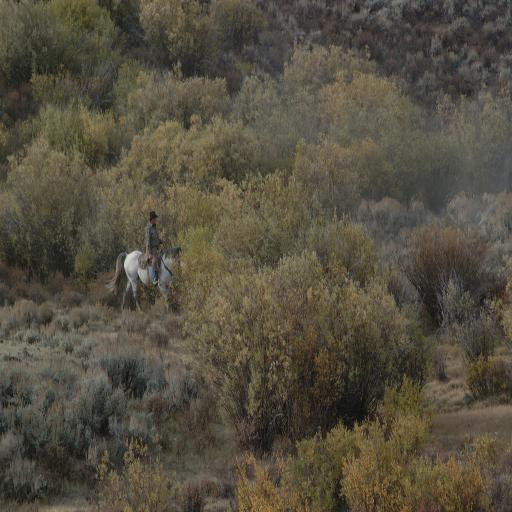Horse: (106, 233, 176, 314)
